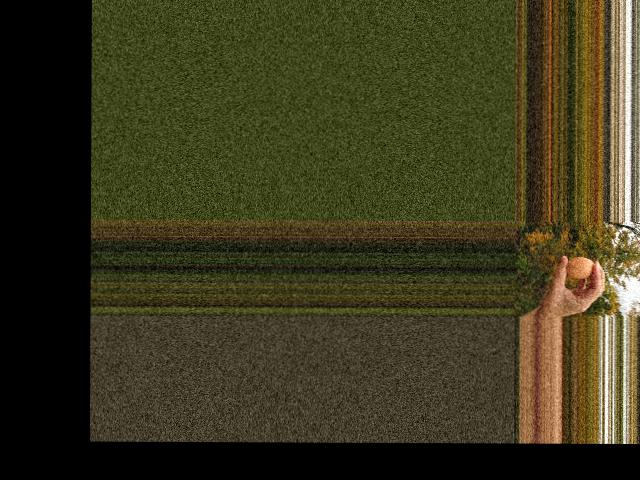egg: (565, 256, 595, 278)
